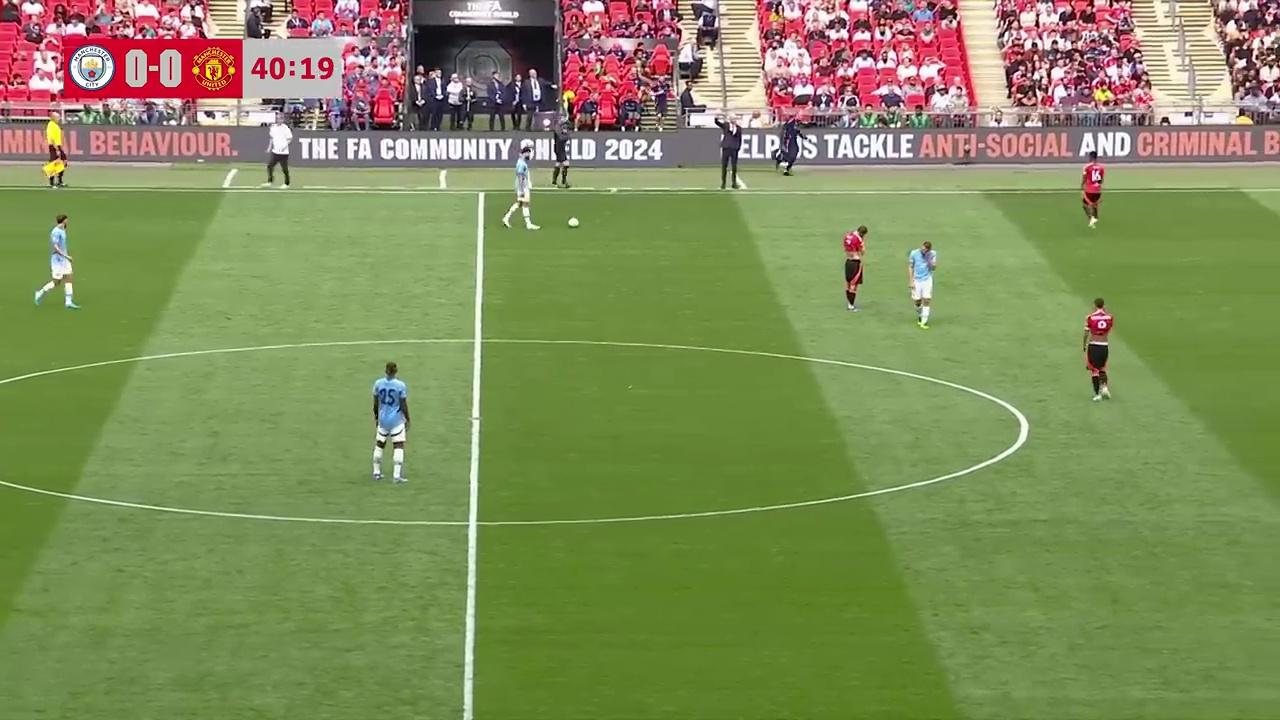ball: (565, 214, 579, 228)
player: (372, 361, 410, 483), (33, 212, 79, 308), (1082, 296, 1113, 401), (502, 156, 539, 231), (906, 240, 937, 327), (843, 224, 868, 310), (1080, 155, 1104, 227)
referee: (42, 113, 66, 188)
